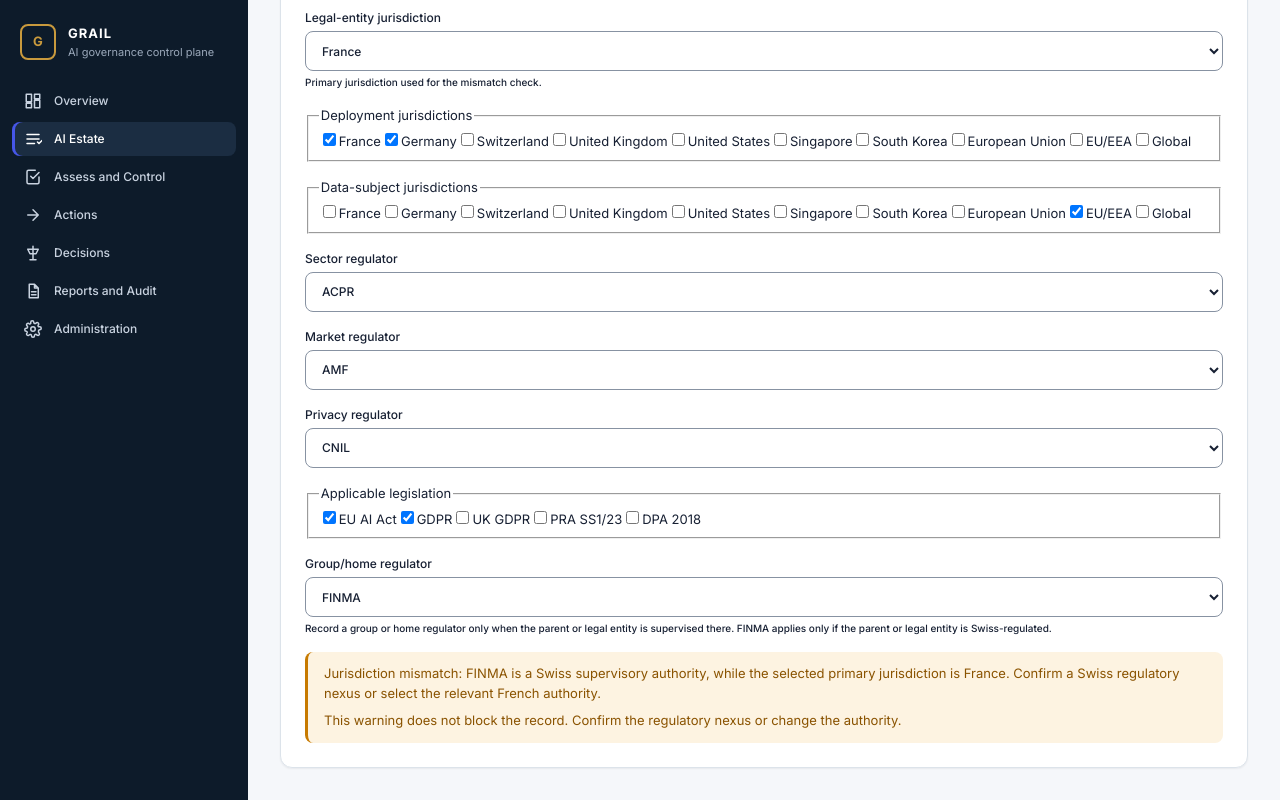
it: regulatory nexus › shows the France example and keeps the FINMA mismatch as a warning
The width and height of the screenshot is (1280, 800).
(page scrolled)
Check: the dropdown labelled "Legal-entity jurisdiction" shows "France", box top-left (305, 31), bottom-right (1223, 71)
Check: the checkbox labelled "France" below "Deployment jurisdictions" is checked, box top-left (323, 134), bottom-right (336, 146)
Select "ACPR" in the dropdown labelled "Group/home regulator" at x=764, y=597, box top-left (305, 577), bottom-right (1223, 617)
(page scrolled)
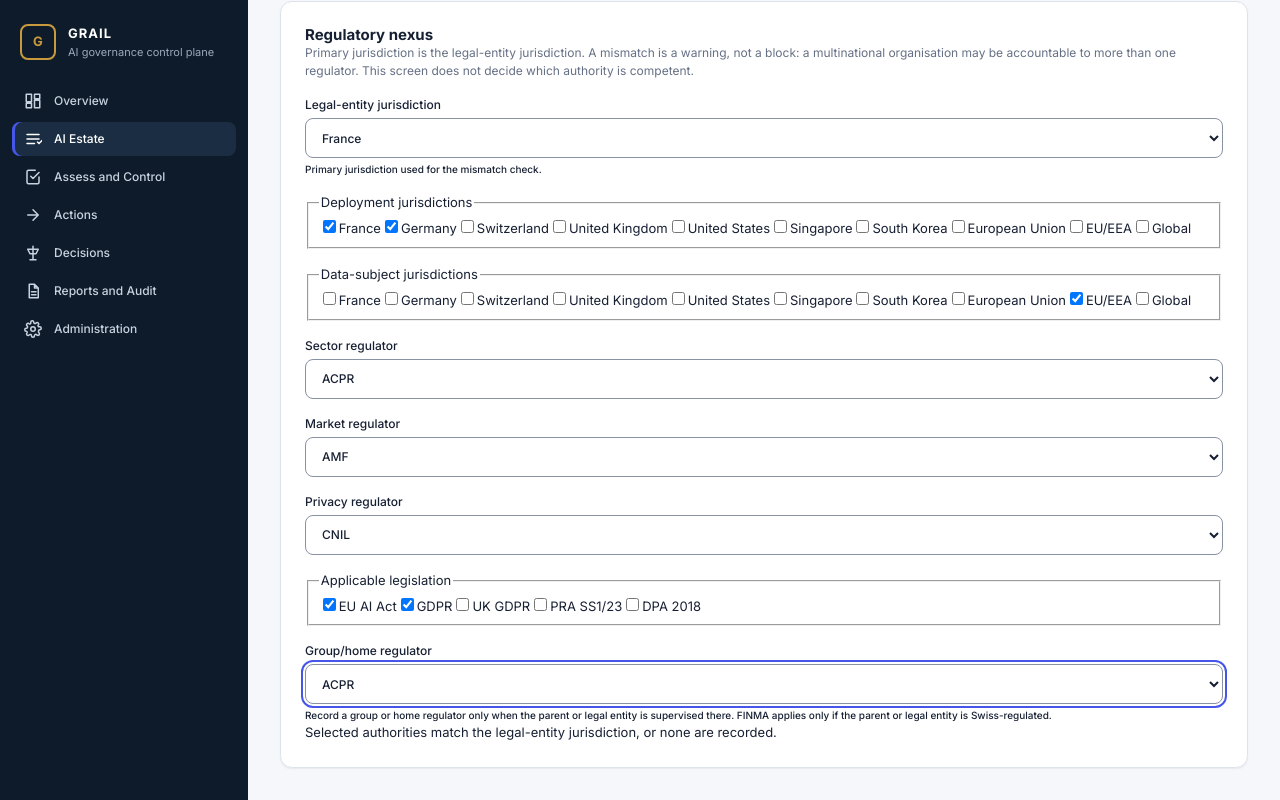
Check: the text "Jurisdiction mismatch: FINMA is a Swiss supervisory authority, while the selected primary jurisdiction is France. Confir" is gone
Check: the text "Selected authorities match" is shown, box top-left (305, 724), bottom-right (777, 740)
